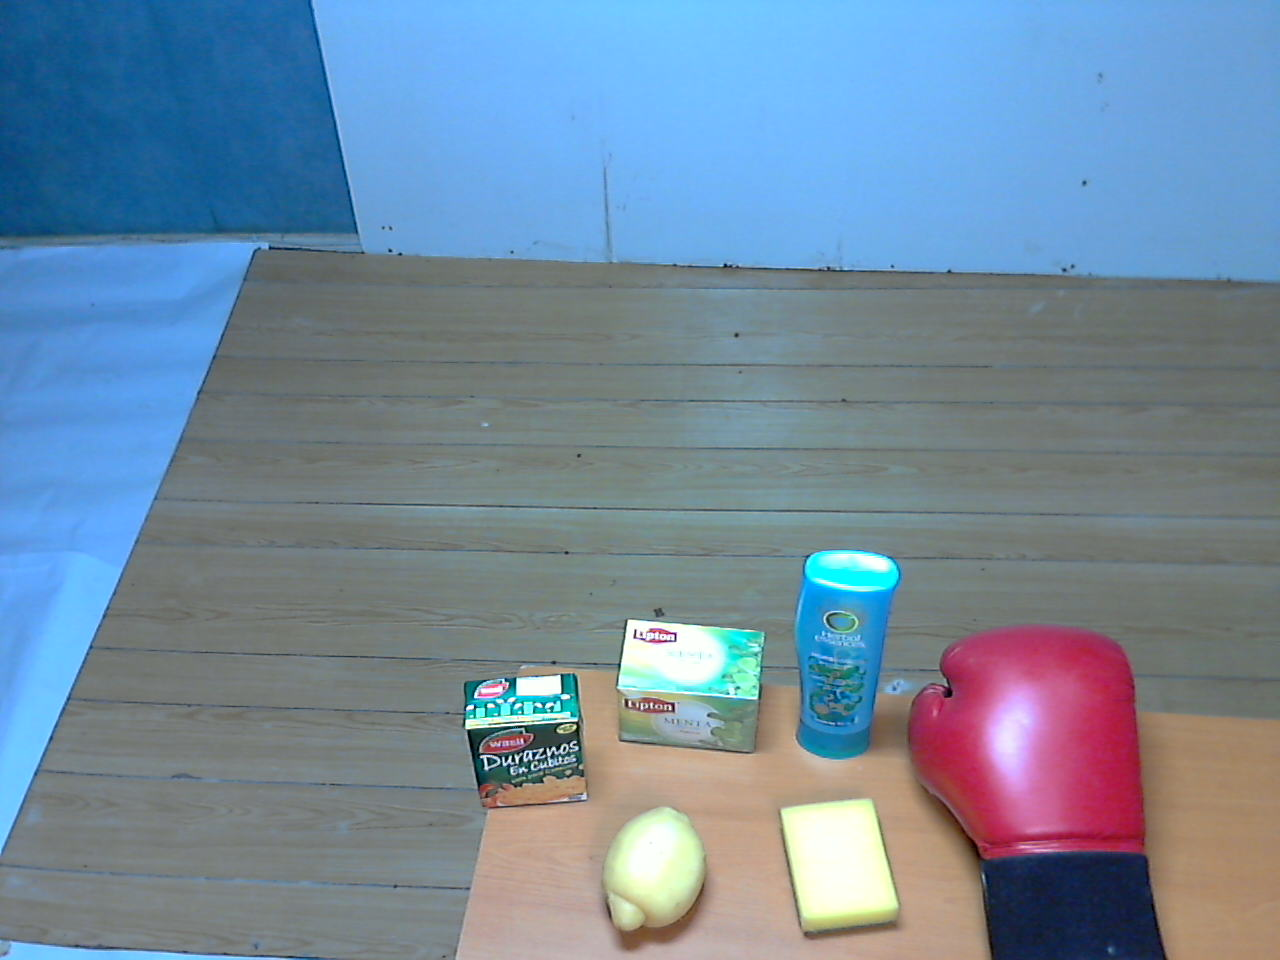balsamo: (785, 541, 908, 763)
durazno: (457, 661, 595, 816)
esponja: (769, 792, 913, 944)
guante: (902, 626, 1175, 960)
limon: (592, 800, 711, 938)
te: (610, 614, 770, 764)
